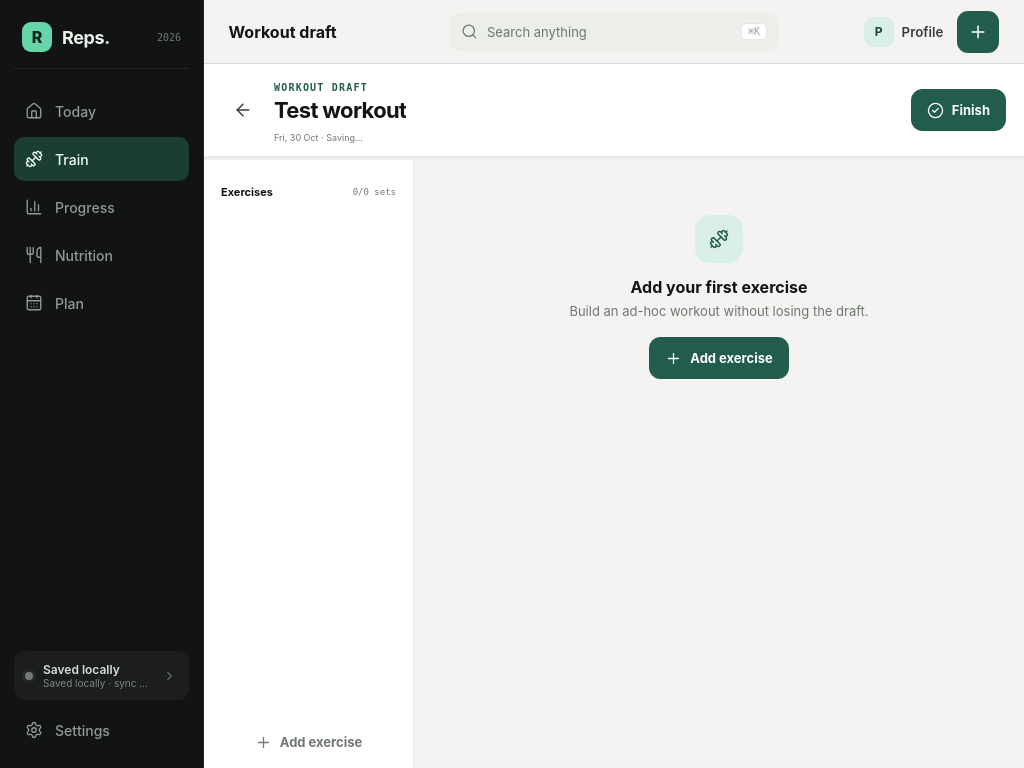
it: workout editing and final actions › flushes a newly added exercise when navigating before autosave
Expected: the heading "Test workout" is shown, [274,97,406,123]
Click the 2nd button "Add exercise" at (308, 742), box [214,721,403,763]
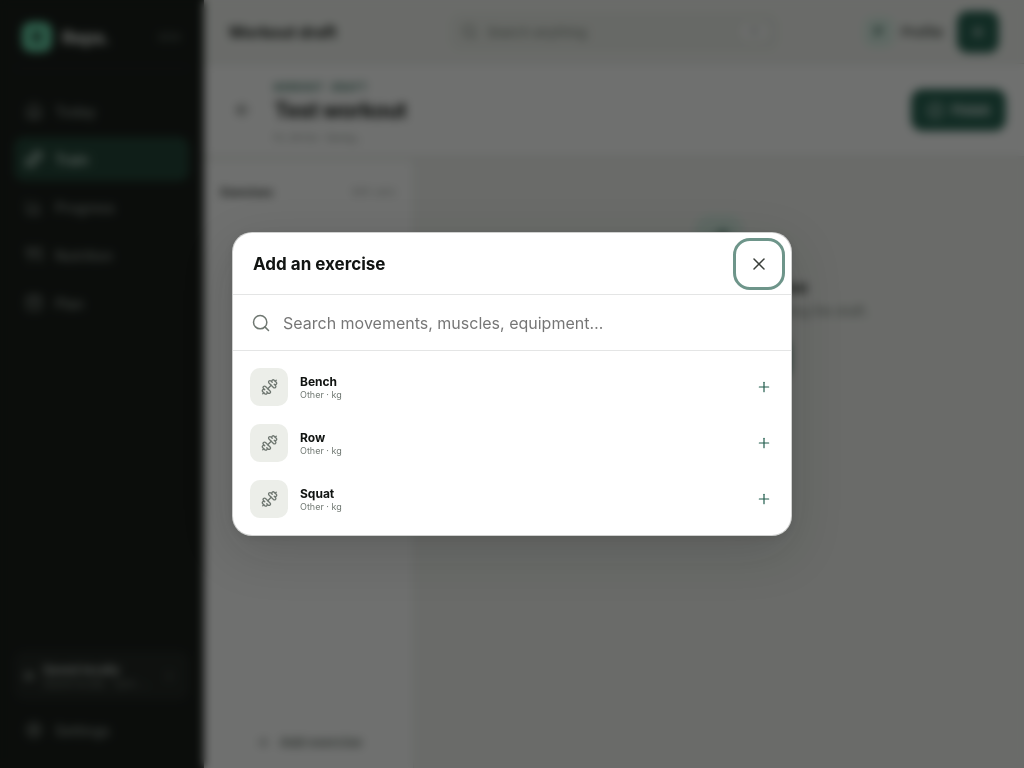
Click the button "Bench Other · kg" at (269, 387), box [241,359,783,415]
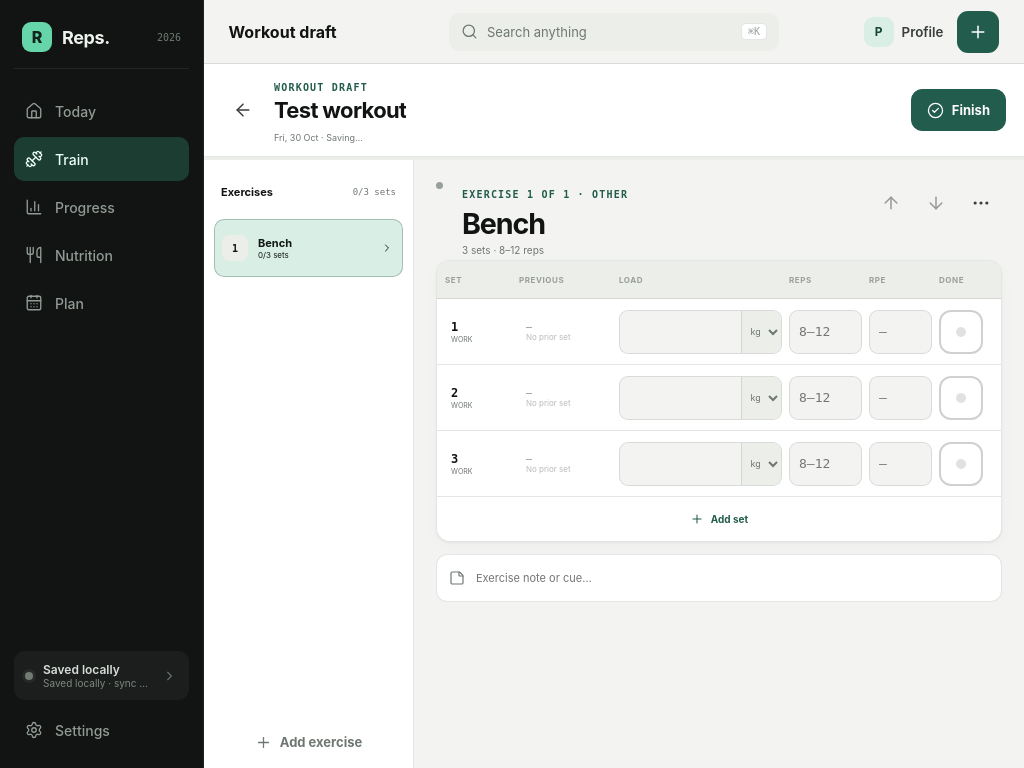
Click the button named "Back to Train" at (243, 110), box [222,89,264,131]
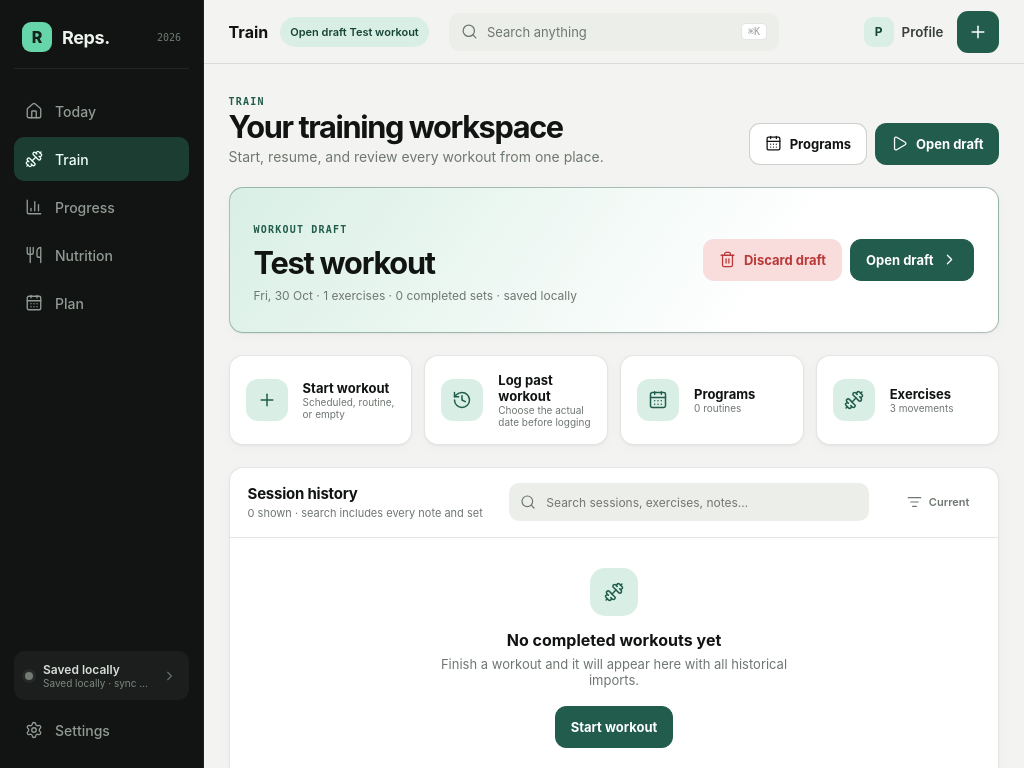
Now the heading "Your training workspace" is shown, box [229,112,604,142]
